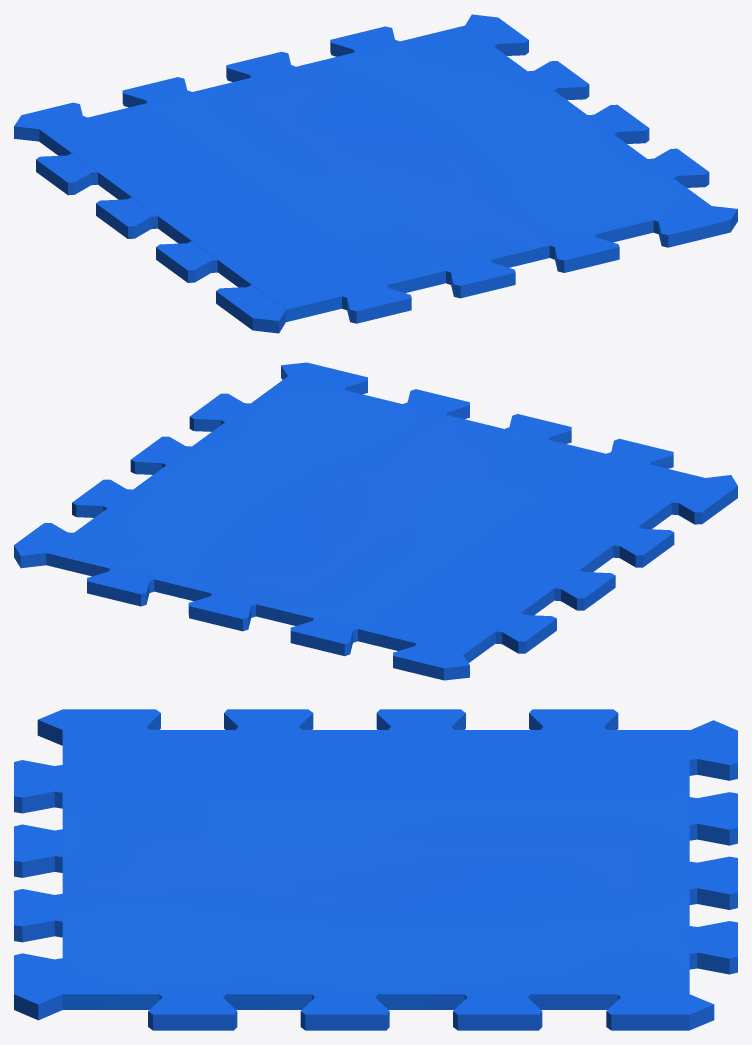
Rendered from PuzzleMatBlue.fbx.
3 renders of one model, top to bottom at view 1: azimuth 30°, elevation 25°; view 2: azimuth 150°, elevation 25°; view 3: azimuth 270°, elevation 25°, orthographic. The views are drawn at different scales.
Visible parts, largest first — view 1: Cube; view 2: Cube; view 3: Cube.
Part boxes in pixels (x1=…): Cube: x1=14, y1=14, x2=737, y2=333; Cube: x1=14, y1=362, x2=737, y2=680; Cube: x1=14, y1=709, x2=737, y2=1030.
Bounding box in the file's own units: 9.48 × 0.2291 × 9.5.
